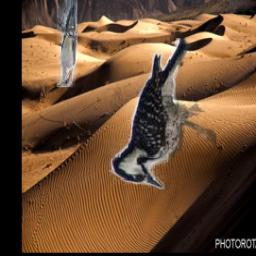Cuckoo: (57, 0, 77, 88)
Woodpecker: (109, 39, 216, 191)
